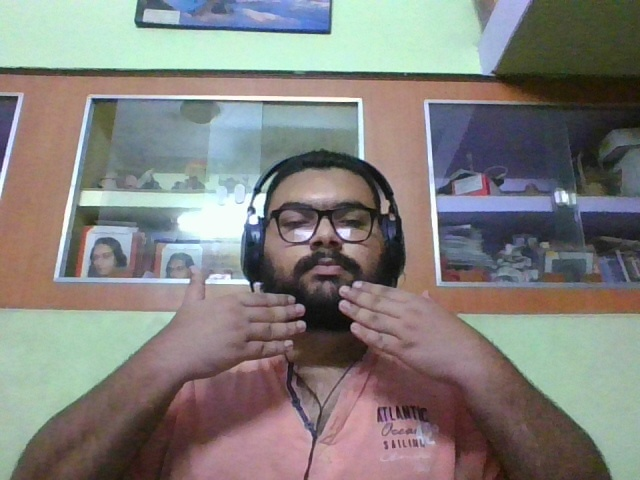thankyou: (177, 265, 469, 397)
